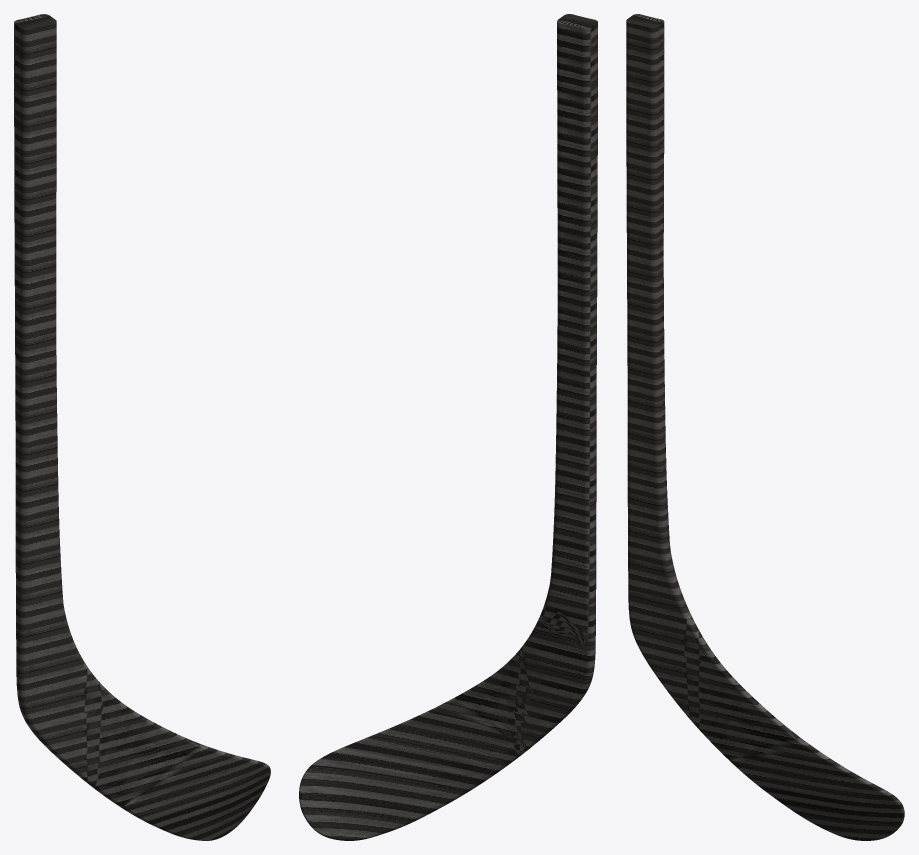
The model's file is P12-SBT.glb.
3 views of the same model, side by side, from view 1: azimuth 30°, elevation 25°; view 2: azimuth 150°, elevation 25°; view 3: azimuth 330°, elevation 25° (orthographic). The views are drawn at different scales.
Parts seen in each view (by area): view 1: geometry_0; view 2: geometry_0; view 3: geometry_0.
Boxes of the visible parts, <box> form: geometry_0: <box>14,14,270,840</box>; geometry_0: <box>299,14,597,840</box>; geometry_0: <box>626,14,904,840</box>.
Size of the model in its own units: 240 by 728 by 60.86.
Materials: 1 (1 with a texture image).
